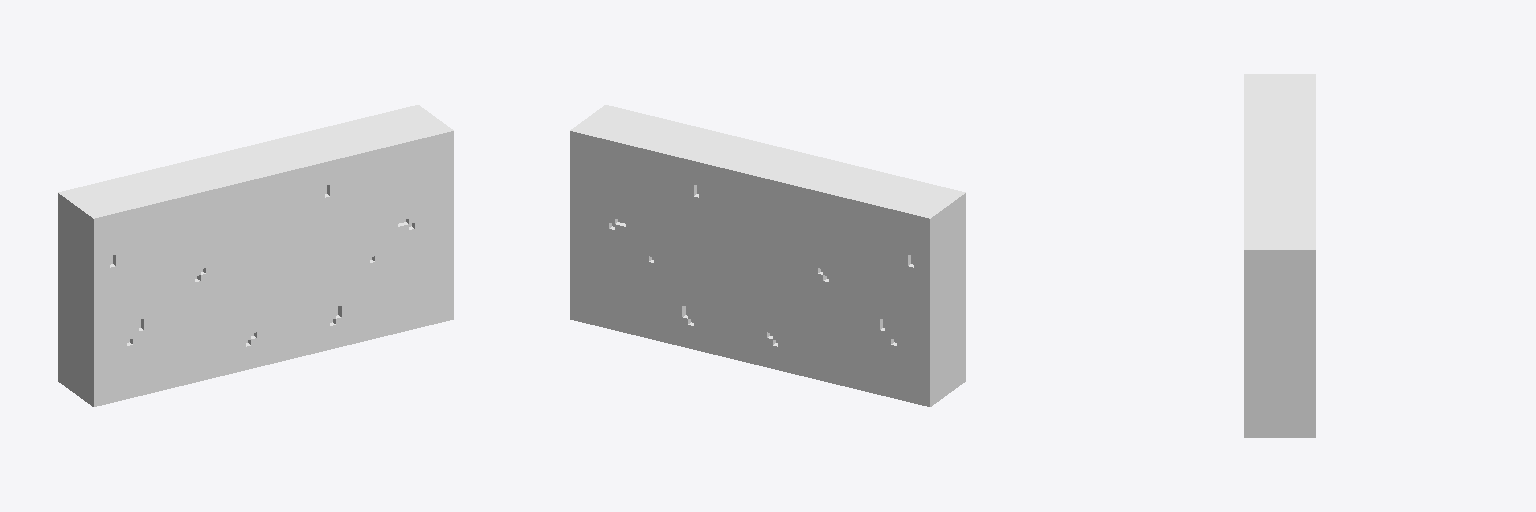
The model's file is Half_Height_Piece.obj.
3 views of the same model, side by side, from view 1: azimuth 30°, elevation 25°; view 2: azimuth 150°, elevation 25°; view 3: azimuth 270°, elevation 25° (orthographic).
Visible parts, largest first — view 1: object 1; view 2: object 1; view 3: object 1.
Boxes of the visible parts, x1,y1,x2,y2 form: object 1: [58, 105, 453, 406]; object 1: [570, 105, 965, 406]; object 1: [1244, 74, 1315, 437].
Size of the model in its own units: 6.4 by 3.2 by 1.1.